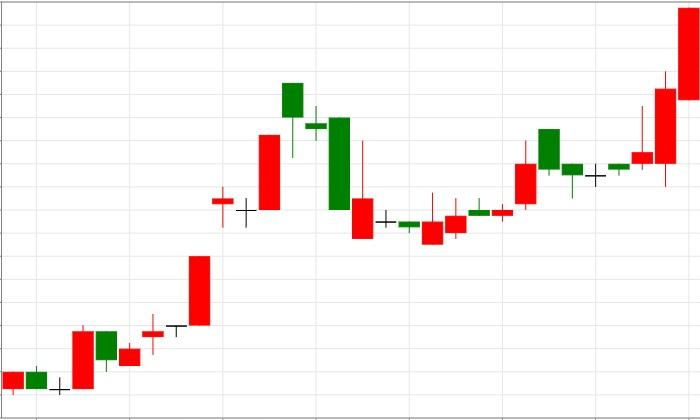hanging_man_fall: (119, 82, 303, 367)
